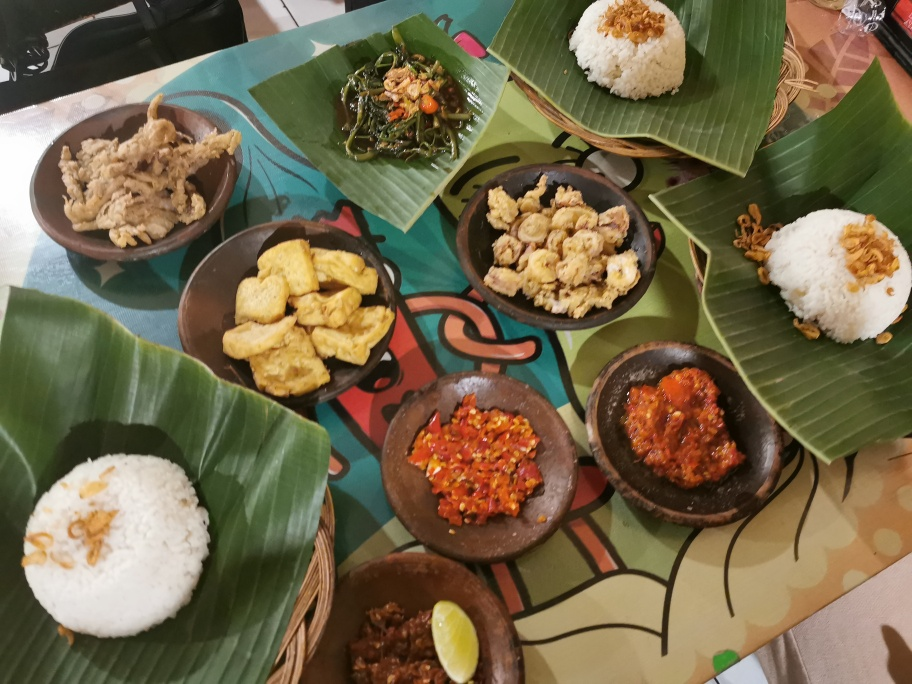nasi putih: (22, 449, 211, 643), (764, 208, 912, 350), (562, 1, 686, 99)
